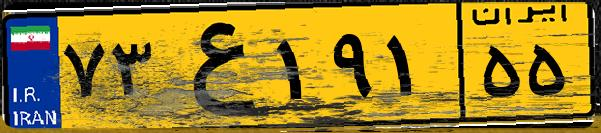1: (270, 28, 330, 110), (385, 28, 445, 110)
3: (110, 28, 158, 98)
5: (475, 38, 525, 113), (525, 38, 570, 115)
7: (57, 26, 110, 100)
9: (330, 28, 385, 110)
ع: (158, 12, 270, 120)
